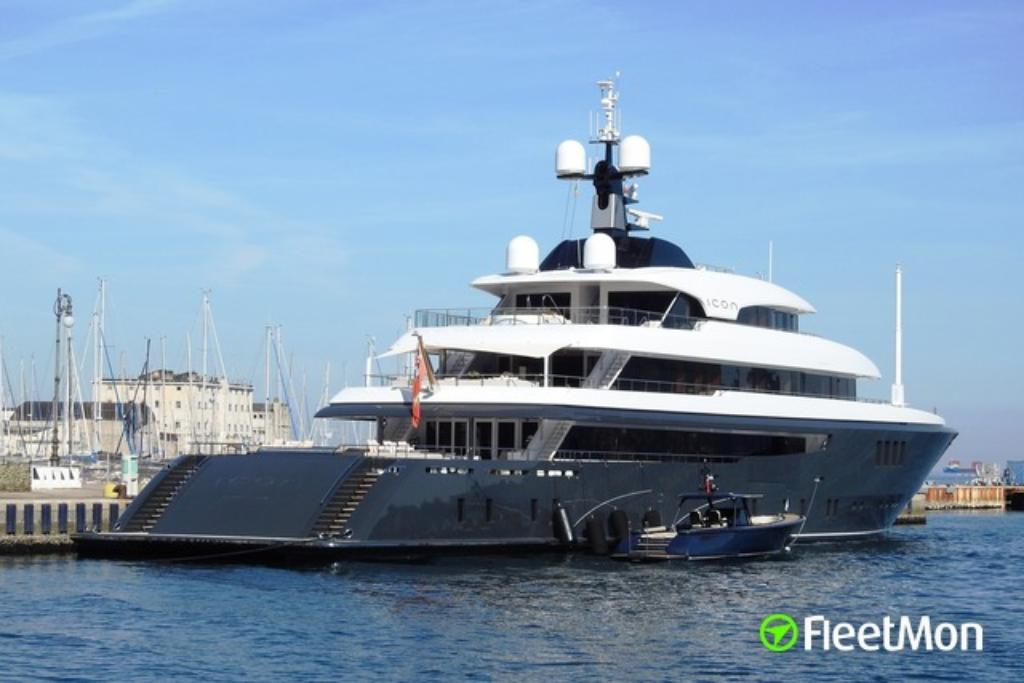PassengerShip: (70, 78, 958, 566)
